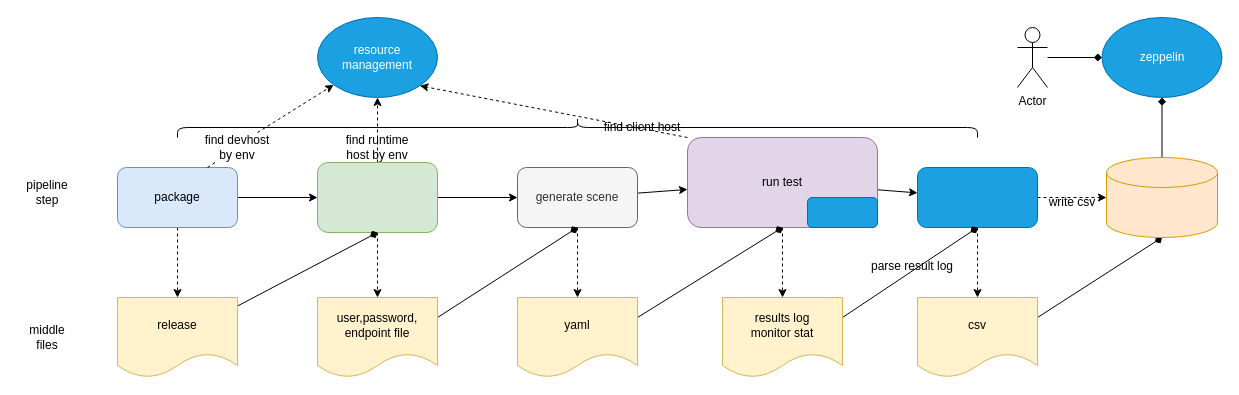
Some shapes in this 1239 by 395 pixel diagram are drawn without their labels. Each missing label, with the centre of its shape:
"deployment" belongs at (x=377, y=197).
"jenkins pipeline" belongs at (x=577, y=127).
"metric publisher" belongs at (x=977, y=197).
"mogdb" belongs at (x=1162, y=197).
"monitor collect" belongs at (x=842, y=212).
